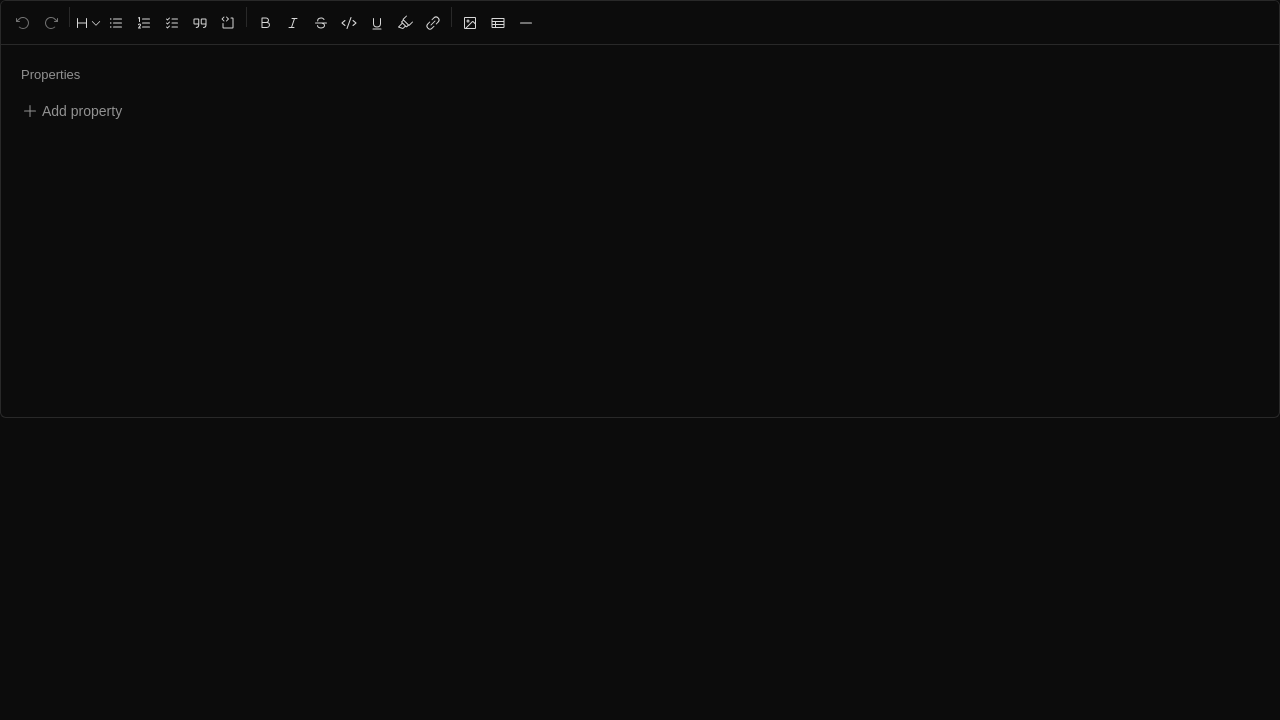
Test: KnowledgeBaseRichEditor › rejects unsafe link protocols
This screenshot has width=1280, height=720.
Check: the field named "Rich Markdown editor" is shown, box 260,142 -> 1020,417
Click the button named "Link" at (433, 22), box 419,8 -> 447,36
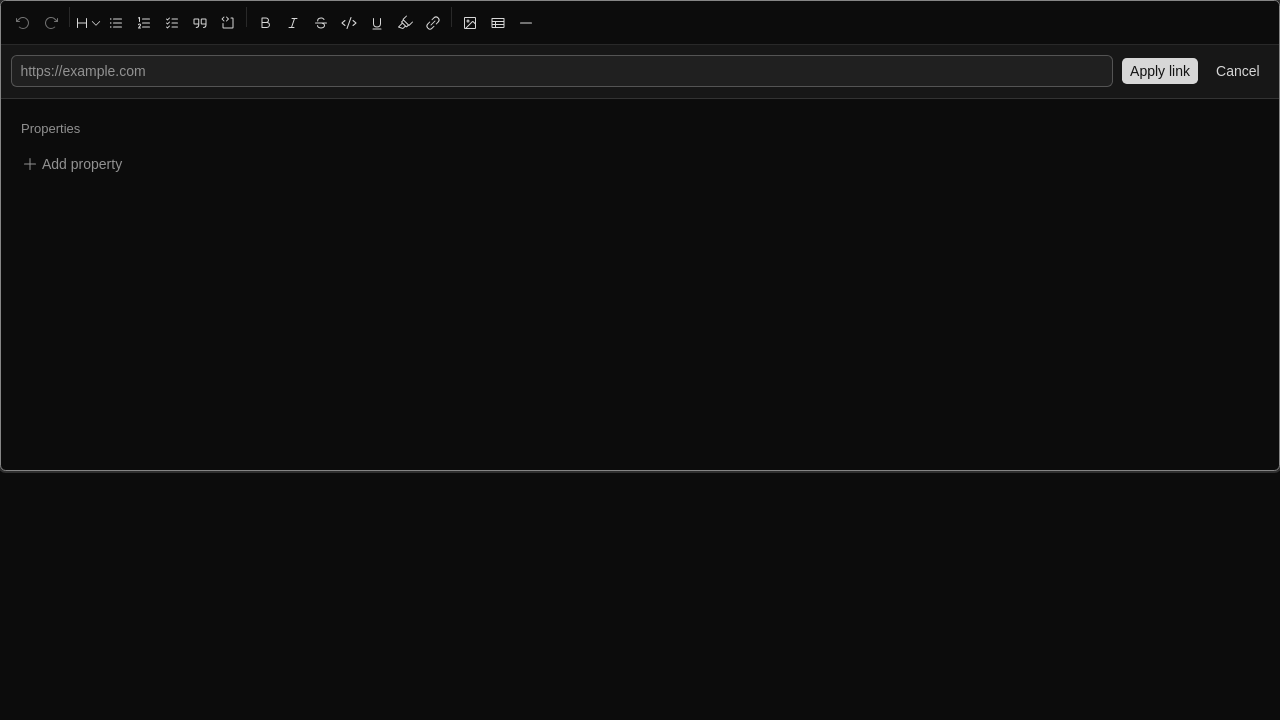
Type "javascript:alert(1)" into the field named "Link URL" at (562, 71), box 11,55 -> 1113,87
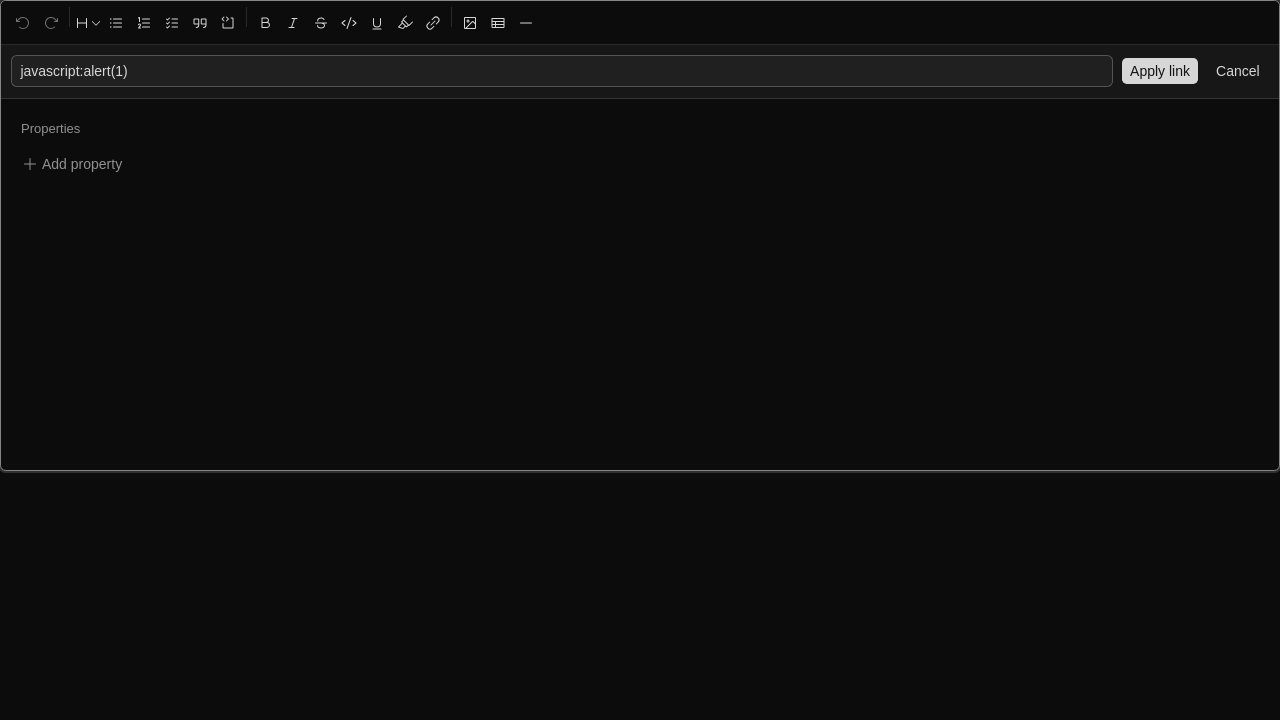
Click the button "Apply link" at (1160, 71), box 1121,57 -> 1199,85
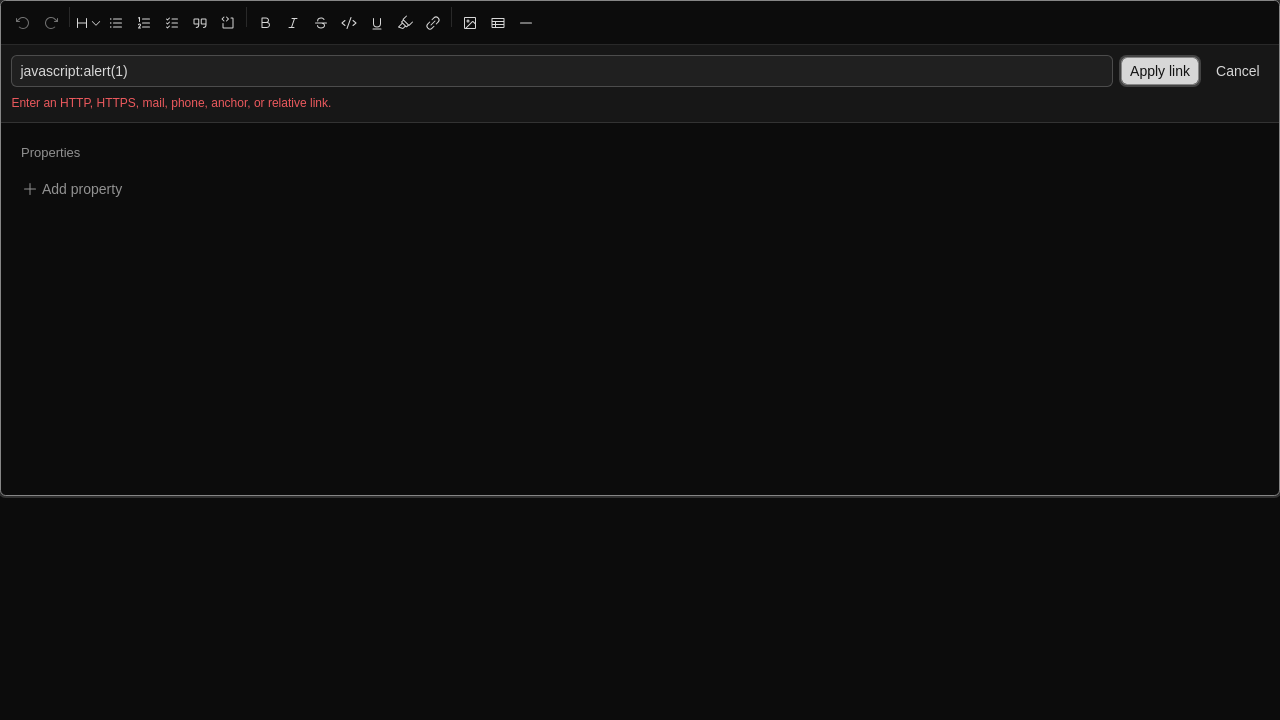
Check: the dialog named "Edit link" is shown, box 1,45 -> 1279,123
Check: the message shows "Enter an HTTP, HTTPS", box 11,96 -> 331,110
